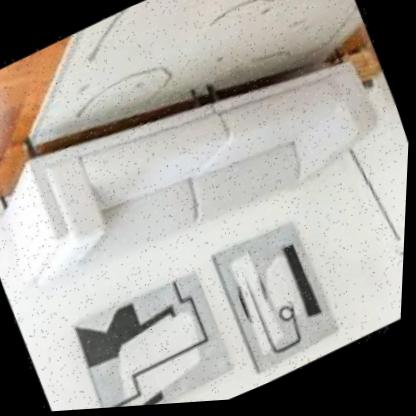Sofa: (0, 0, 416, 345)
